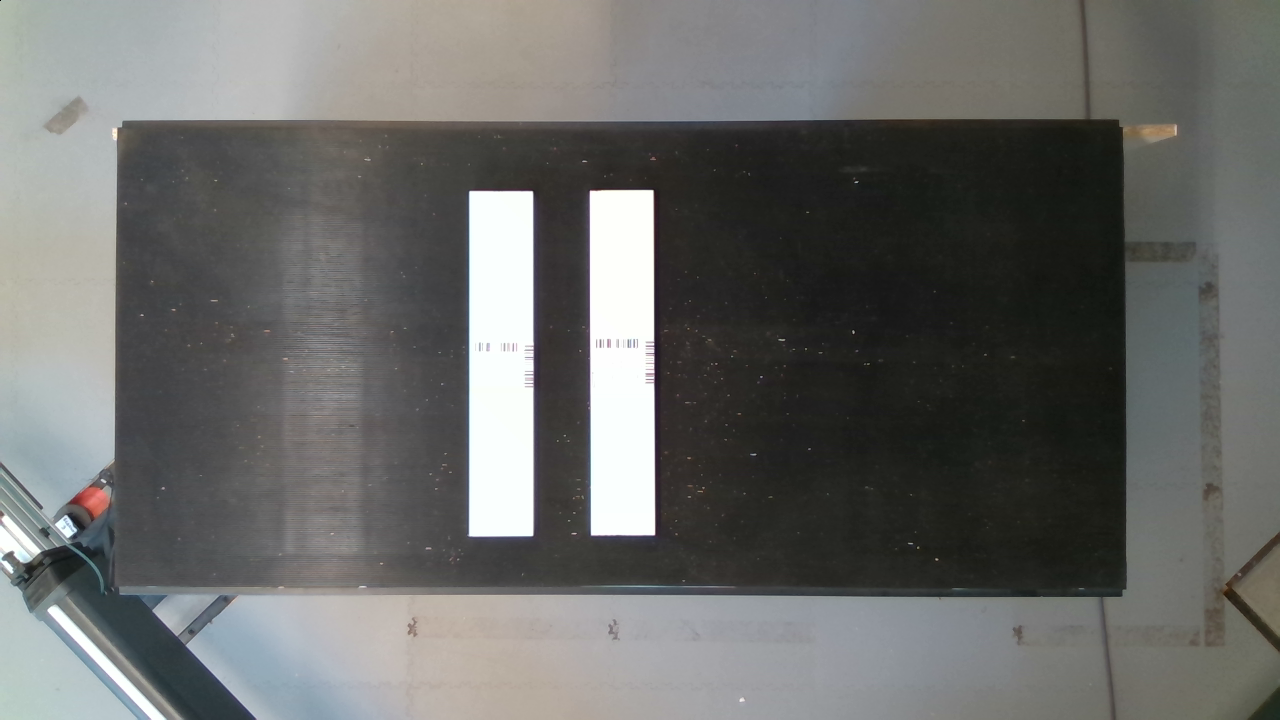barcode: (590, 333, 660, 397), (469, 333, 539, 396)
part1: (461, 183, 546, 544), (585, 183, 662, 544)
